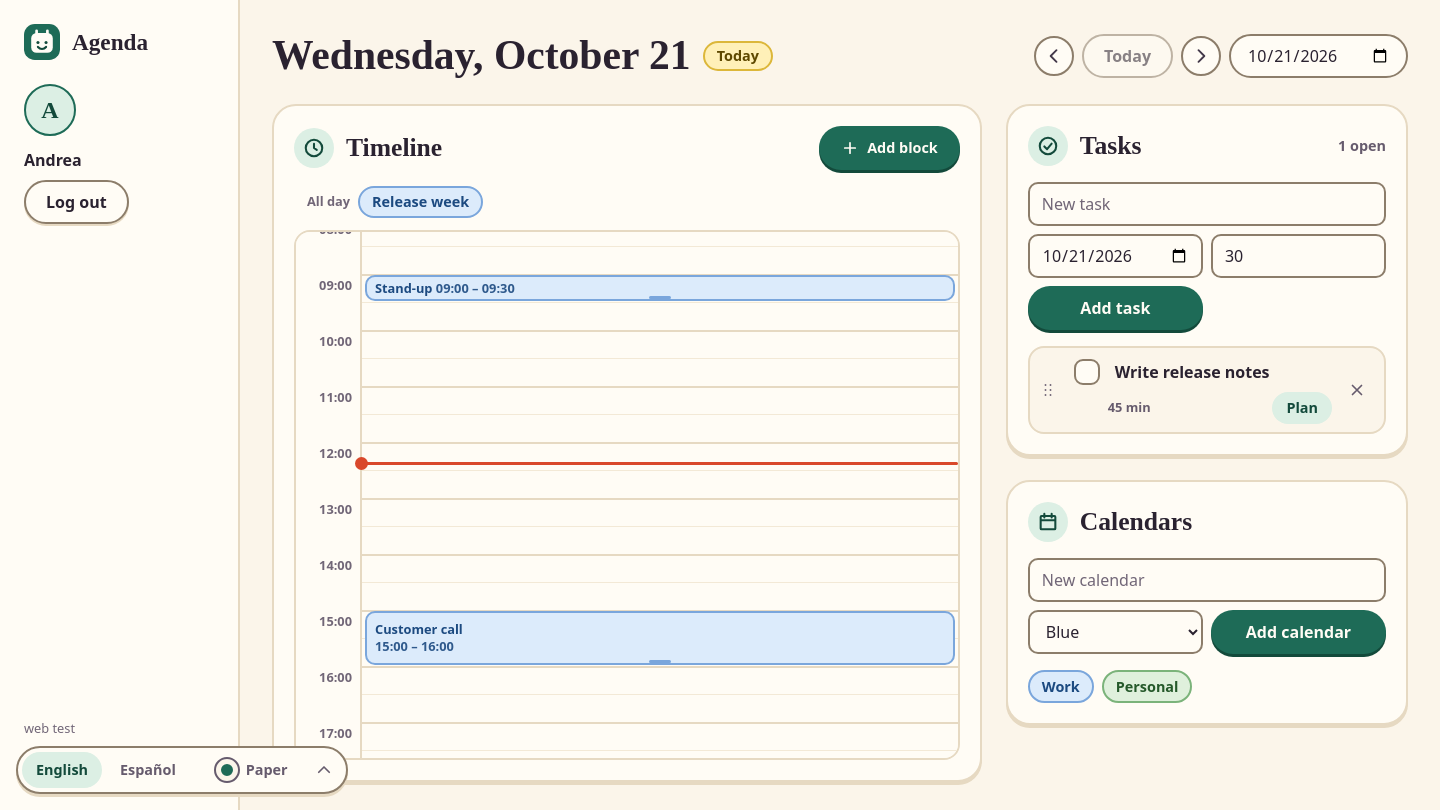
Test: planning a day › plans a task at the next free time, for as long as its estimate
(page scrolled)
Click the button with aria-label "Plan Write release notes" at [1302, 408], box [1272,392,1332,424]
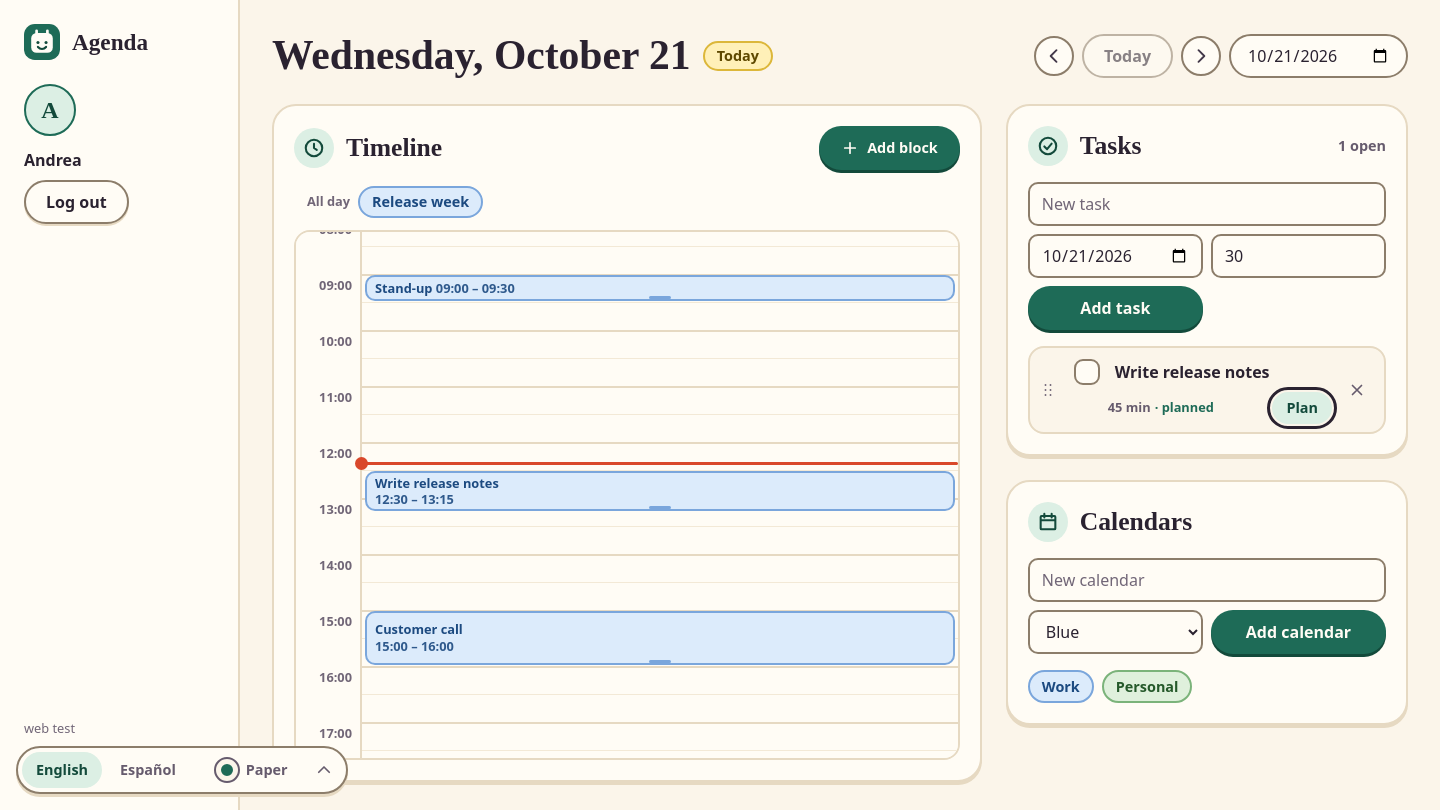
Result: the button "Write release notes 12:30 – 13:15" is shown at [365,471,955,511]
Result: the text "· planned" is shown at [1155,398,1214,417]
